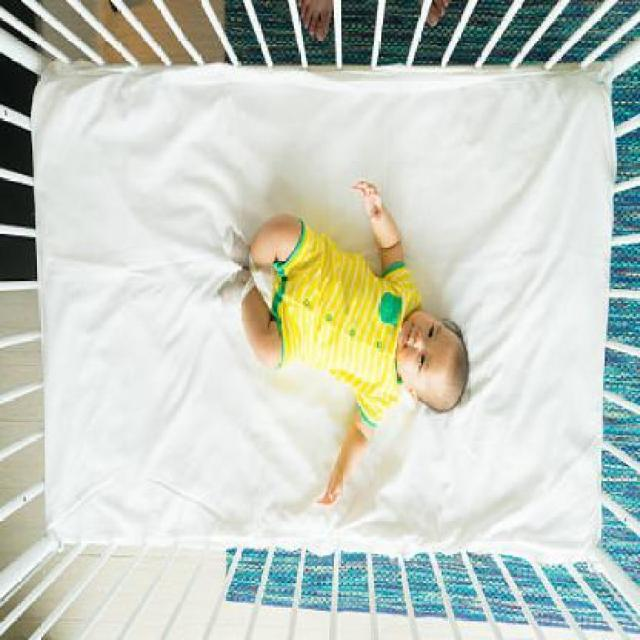child: (210, 179, 472, 508)
